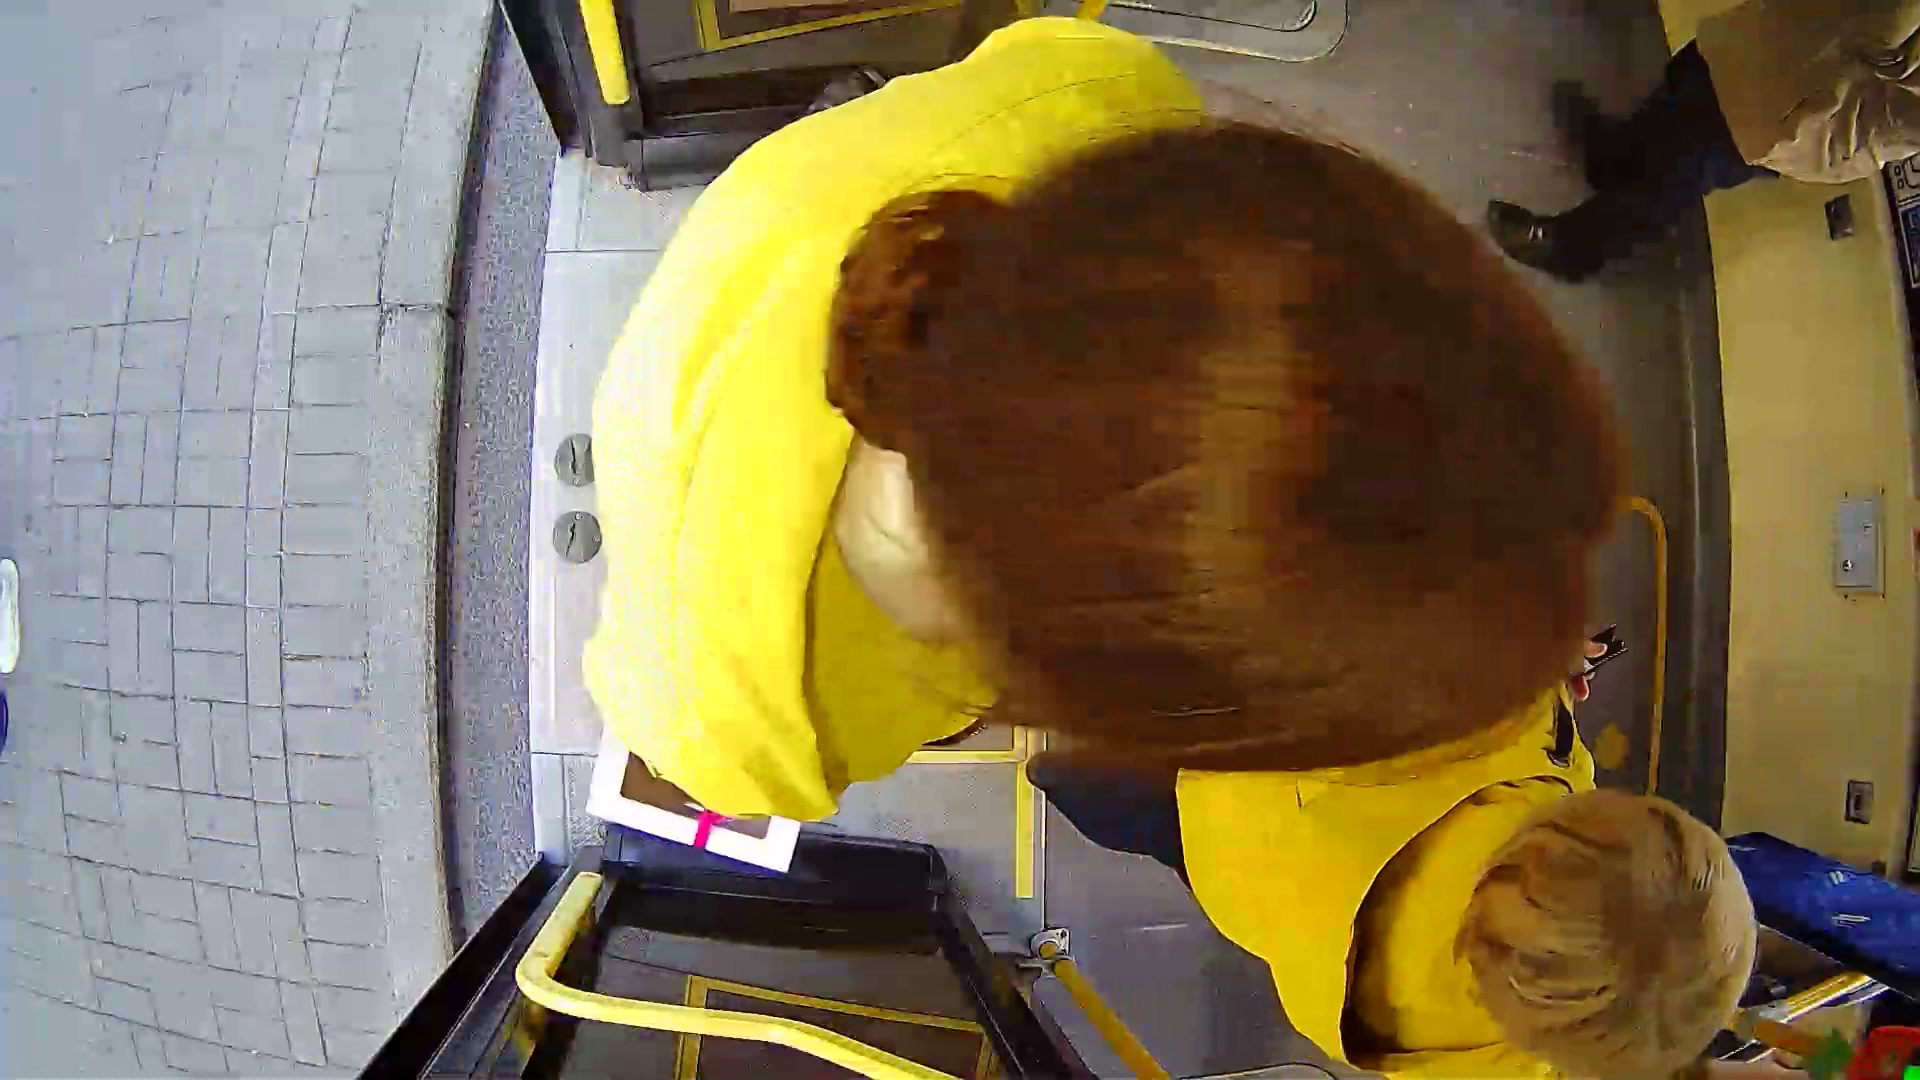person: (618, 104, 1551, 829)
